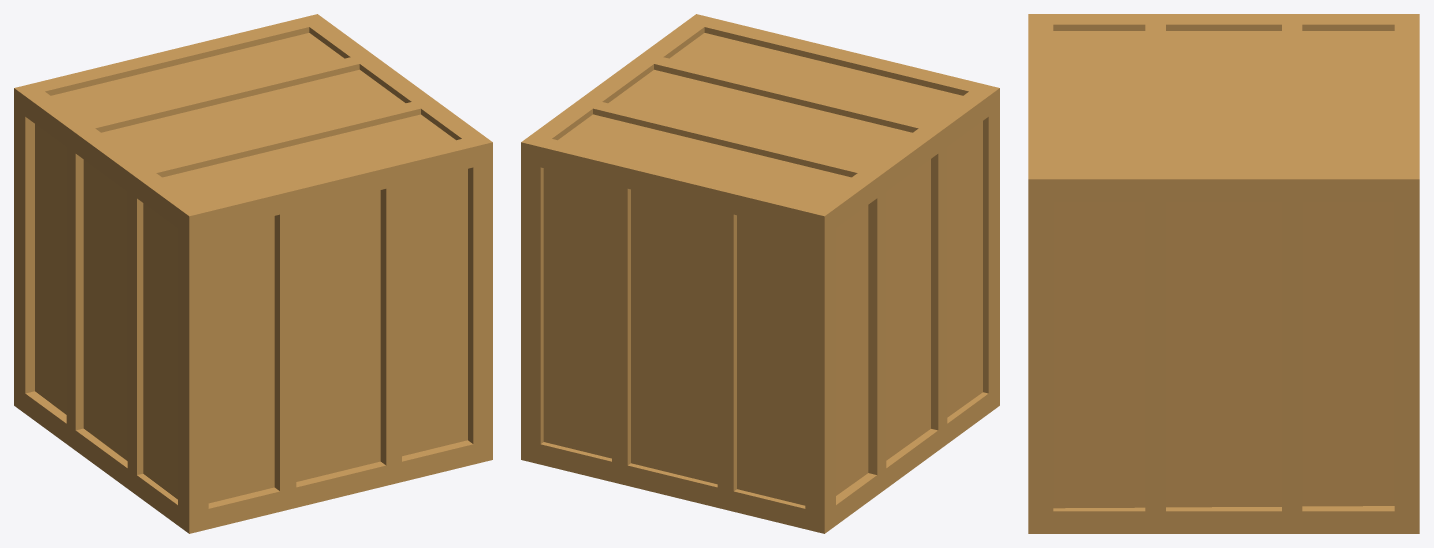
3 renders of one model, left to right at view 1: azimuth 30°, elevation 25°; view 2: azimuth 150°, elevation 25°; view 3: azimuth 270°, elevation 25°, orthographic. The views are drawn at different scales.
Visible parts, largest first — view 1: Box_01_a; view 2: Box_01_a; view 3: Box_01_a.
Boxes of the visible parts, x1,y1,x2,y2 form: Box_01_a: (14,14,492,533); Box_01_a: (521,14,999,533); Box_01_a: (1028,14,1419,533).
Bounding box in the file's own units: 18.39 × 18.39 × 18.39.
